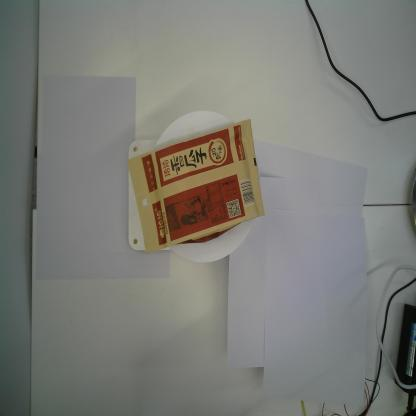Dried Food: (124, 116, 266, 256)
